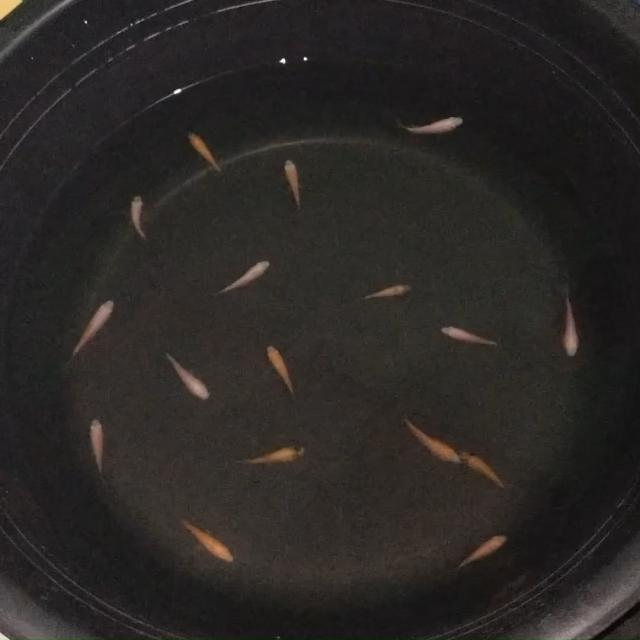nila: (62, 296, 116, 370), (400, 413, 463, 468), (178, 512, 236, 567), (161, 348, 212, 403), (208, 258, 272, 298), (225, 441, 310, 470), (184, 128, 228, 184), (452, 529, 510, 570), (460, 448, 512, 492), (391, 112, 469, 138), (266, 342, 298, 404), (89, 416, 112, 492), (433, 325, 508, 348), (559, 287, 580, 357), (281, 154, 304, 217), (354, 280, 414, 304), (128, 192, 152, 246)
